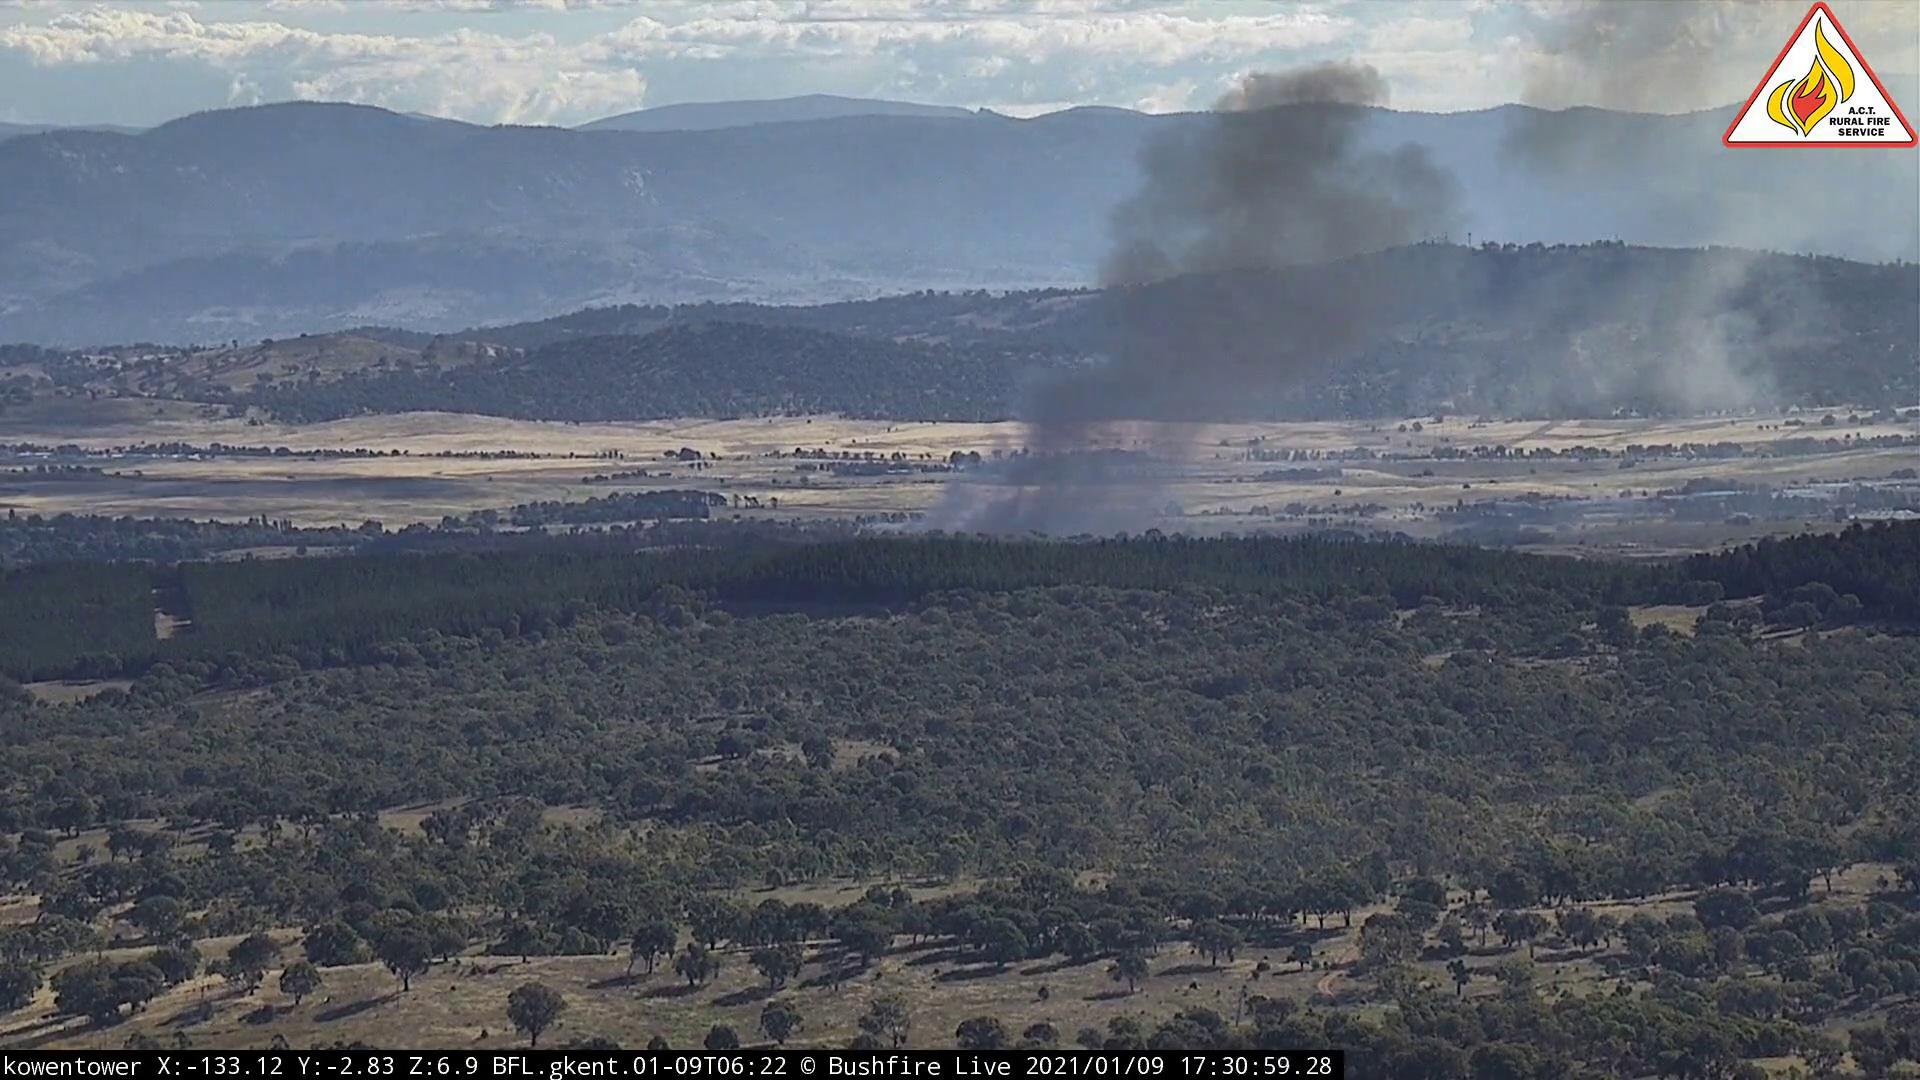Smoke: (891, 38, 1721, 550)
